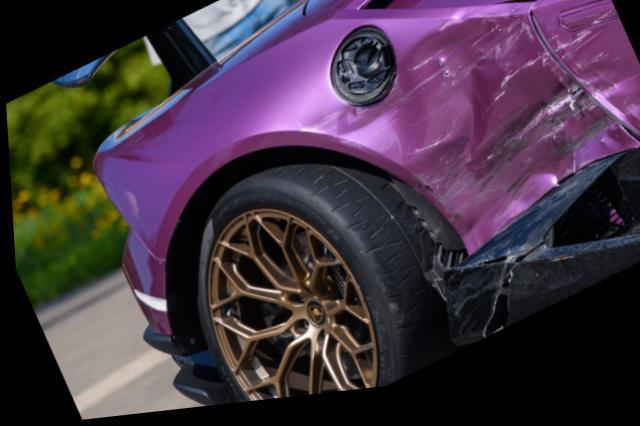crack: (450, 253, 543, 347)
dent: (301, 19, 639, 263), (536, 33, 640, 135)
